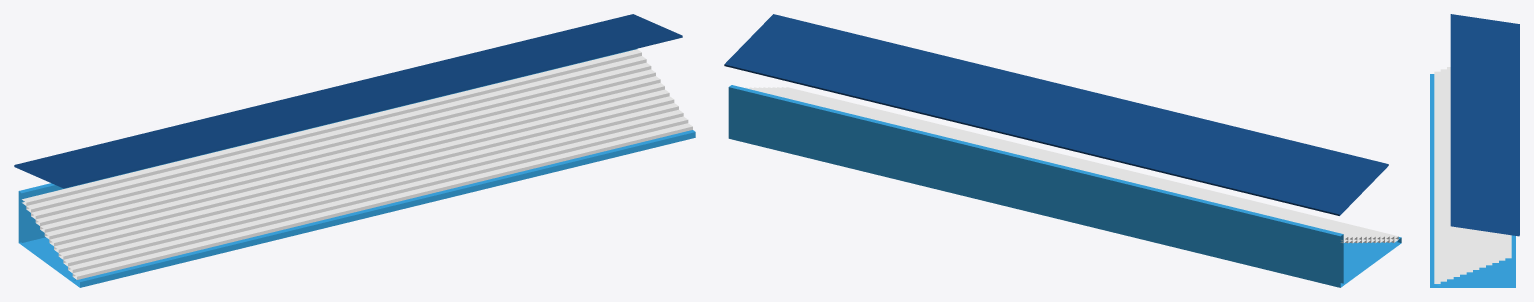
Rendered from stadium_stands_centerpiece.fbx.
3 renders of one model, left to right at view 1: azimuth 30°, elevation 25°; view 2: azimuth 150°, elevation 25°; view 3: azimuth 270°, elevation 25°, orthographic. The views are drawn at different scales.
Parts seen in each view (by area): view 1: stadium_stands_centerpiece; view 2: stadium_stands_centerpiece; view 3: stadium_stands_centerpiece.
Part boxes in pixels (<box>): stadium_stands_centerpiece: <box>14,14,695,287</box>; stadium_stands_centerpiece: <box>724,14,1401,287</box>; stadium_stands_centerpiece: <box>1430,14,1519,287</box>.
Size of the model in its own units: 8717 by 1223 by 1566.
